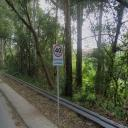speed_limit_40: (53, 45, 63, 57)
